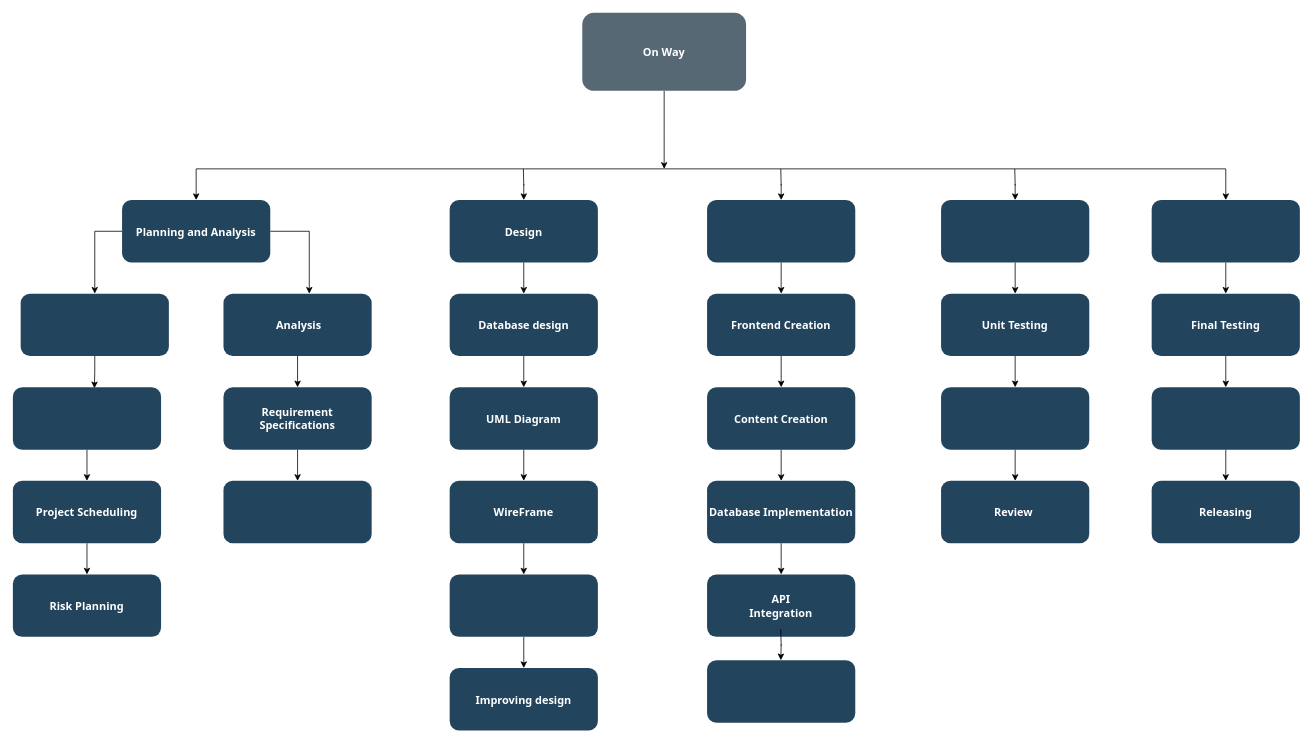
Some shapes in this 1313 by 743 pixel diagram are drawn without their labels. The centre of each missing label's shape, as x and y in pixels:
"Analysis of Requirements and Changes" goes at (297,511).
"Deployment and Release" goes at (1225,231).
"Development" goes at (781,231).
"Documentation" goes at (1225,418).
"Integration Testing" goes at (1015,418).
"Planning" goes at (94,324).
"Project Scope" goes at (86,418).
"Prototype design" goes at (523,605).
"Security System Integration" goes at (781,691).
"Testing and Review" goes at (1015,231).
